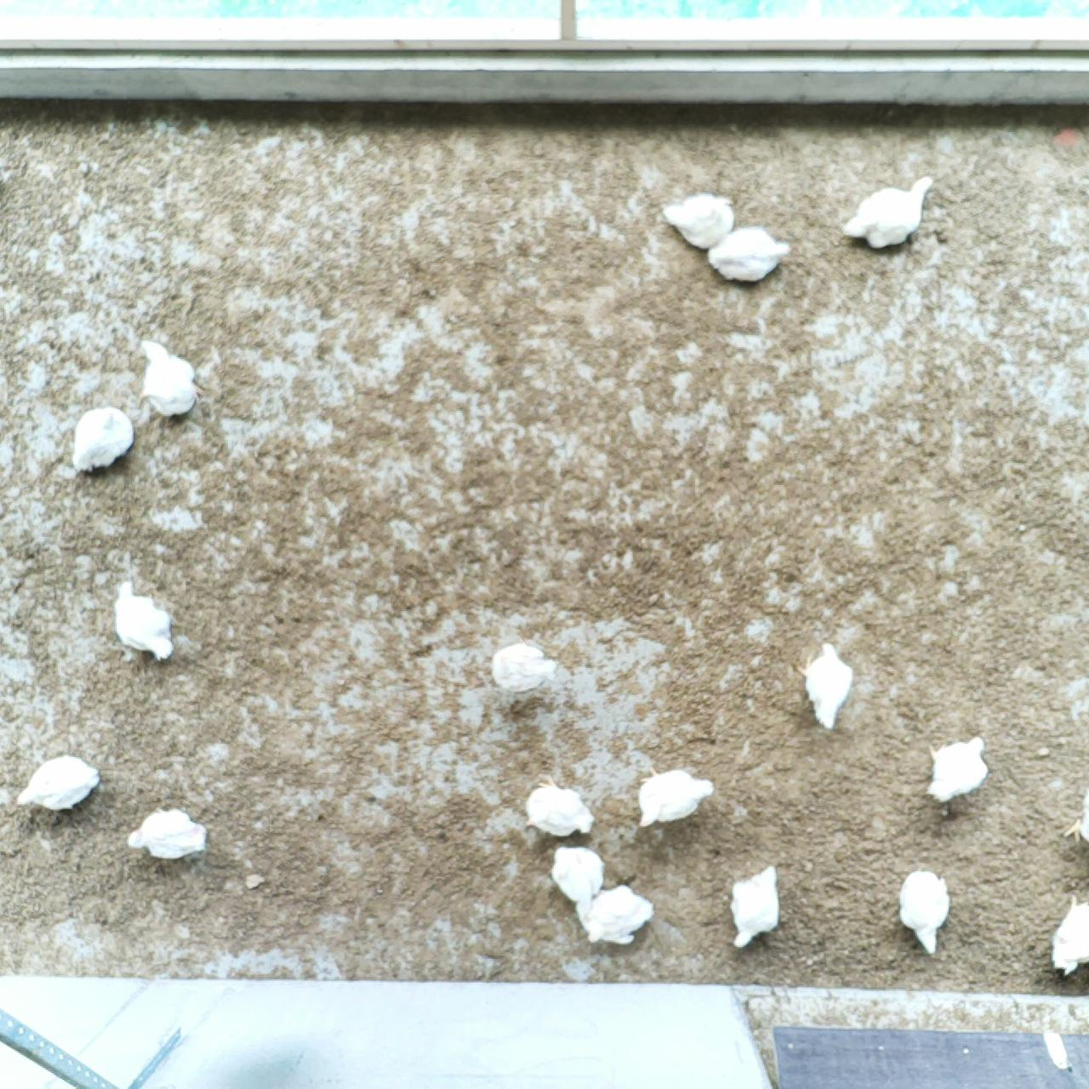chicken: (841, 172, 939, 252), (10, 748, 112, 816), (723, 858, 791, 955), (107, 579, 177, 670), (703, 223, 796, 286), (797, 637, 855, 735), (633, 765, 718, 831), (134, 337, 200, 421), (124, 801, 211, 863), (526, 773, 601, 844), (895, 868, 956, 954), (575, 883, 654, 948), (658, 189, 734, 256), (927, 730, 989, 808), (68, 403, 134, 476), (543, 838, 607, 908), (486, 639, 564, 695), (1046, 891, 1089, 980), (1063, 791, 1089, 848)
